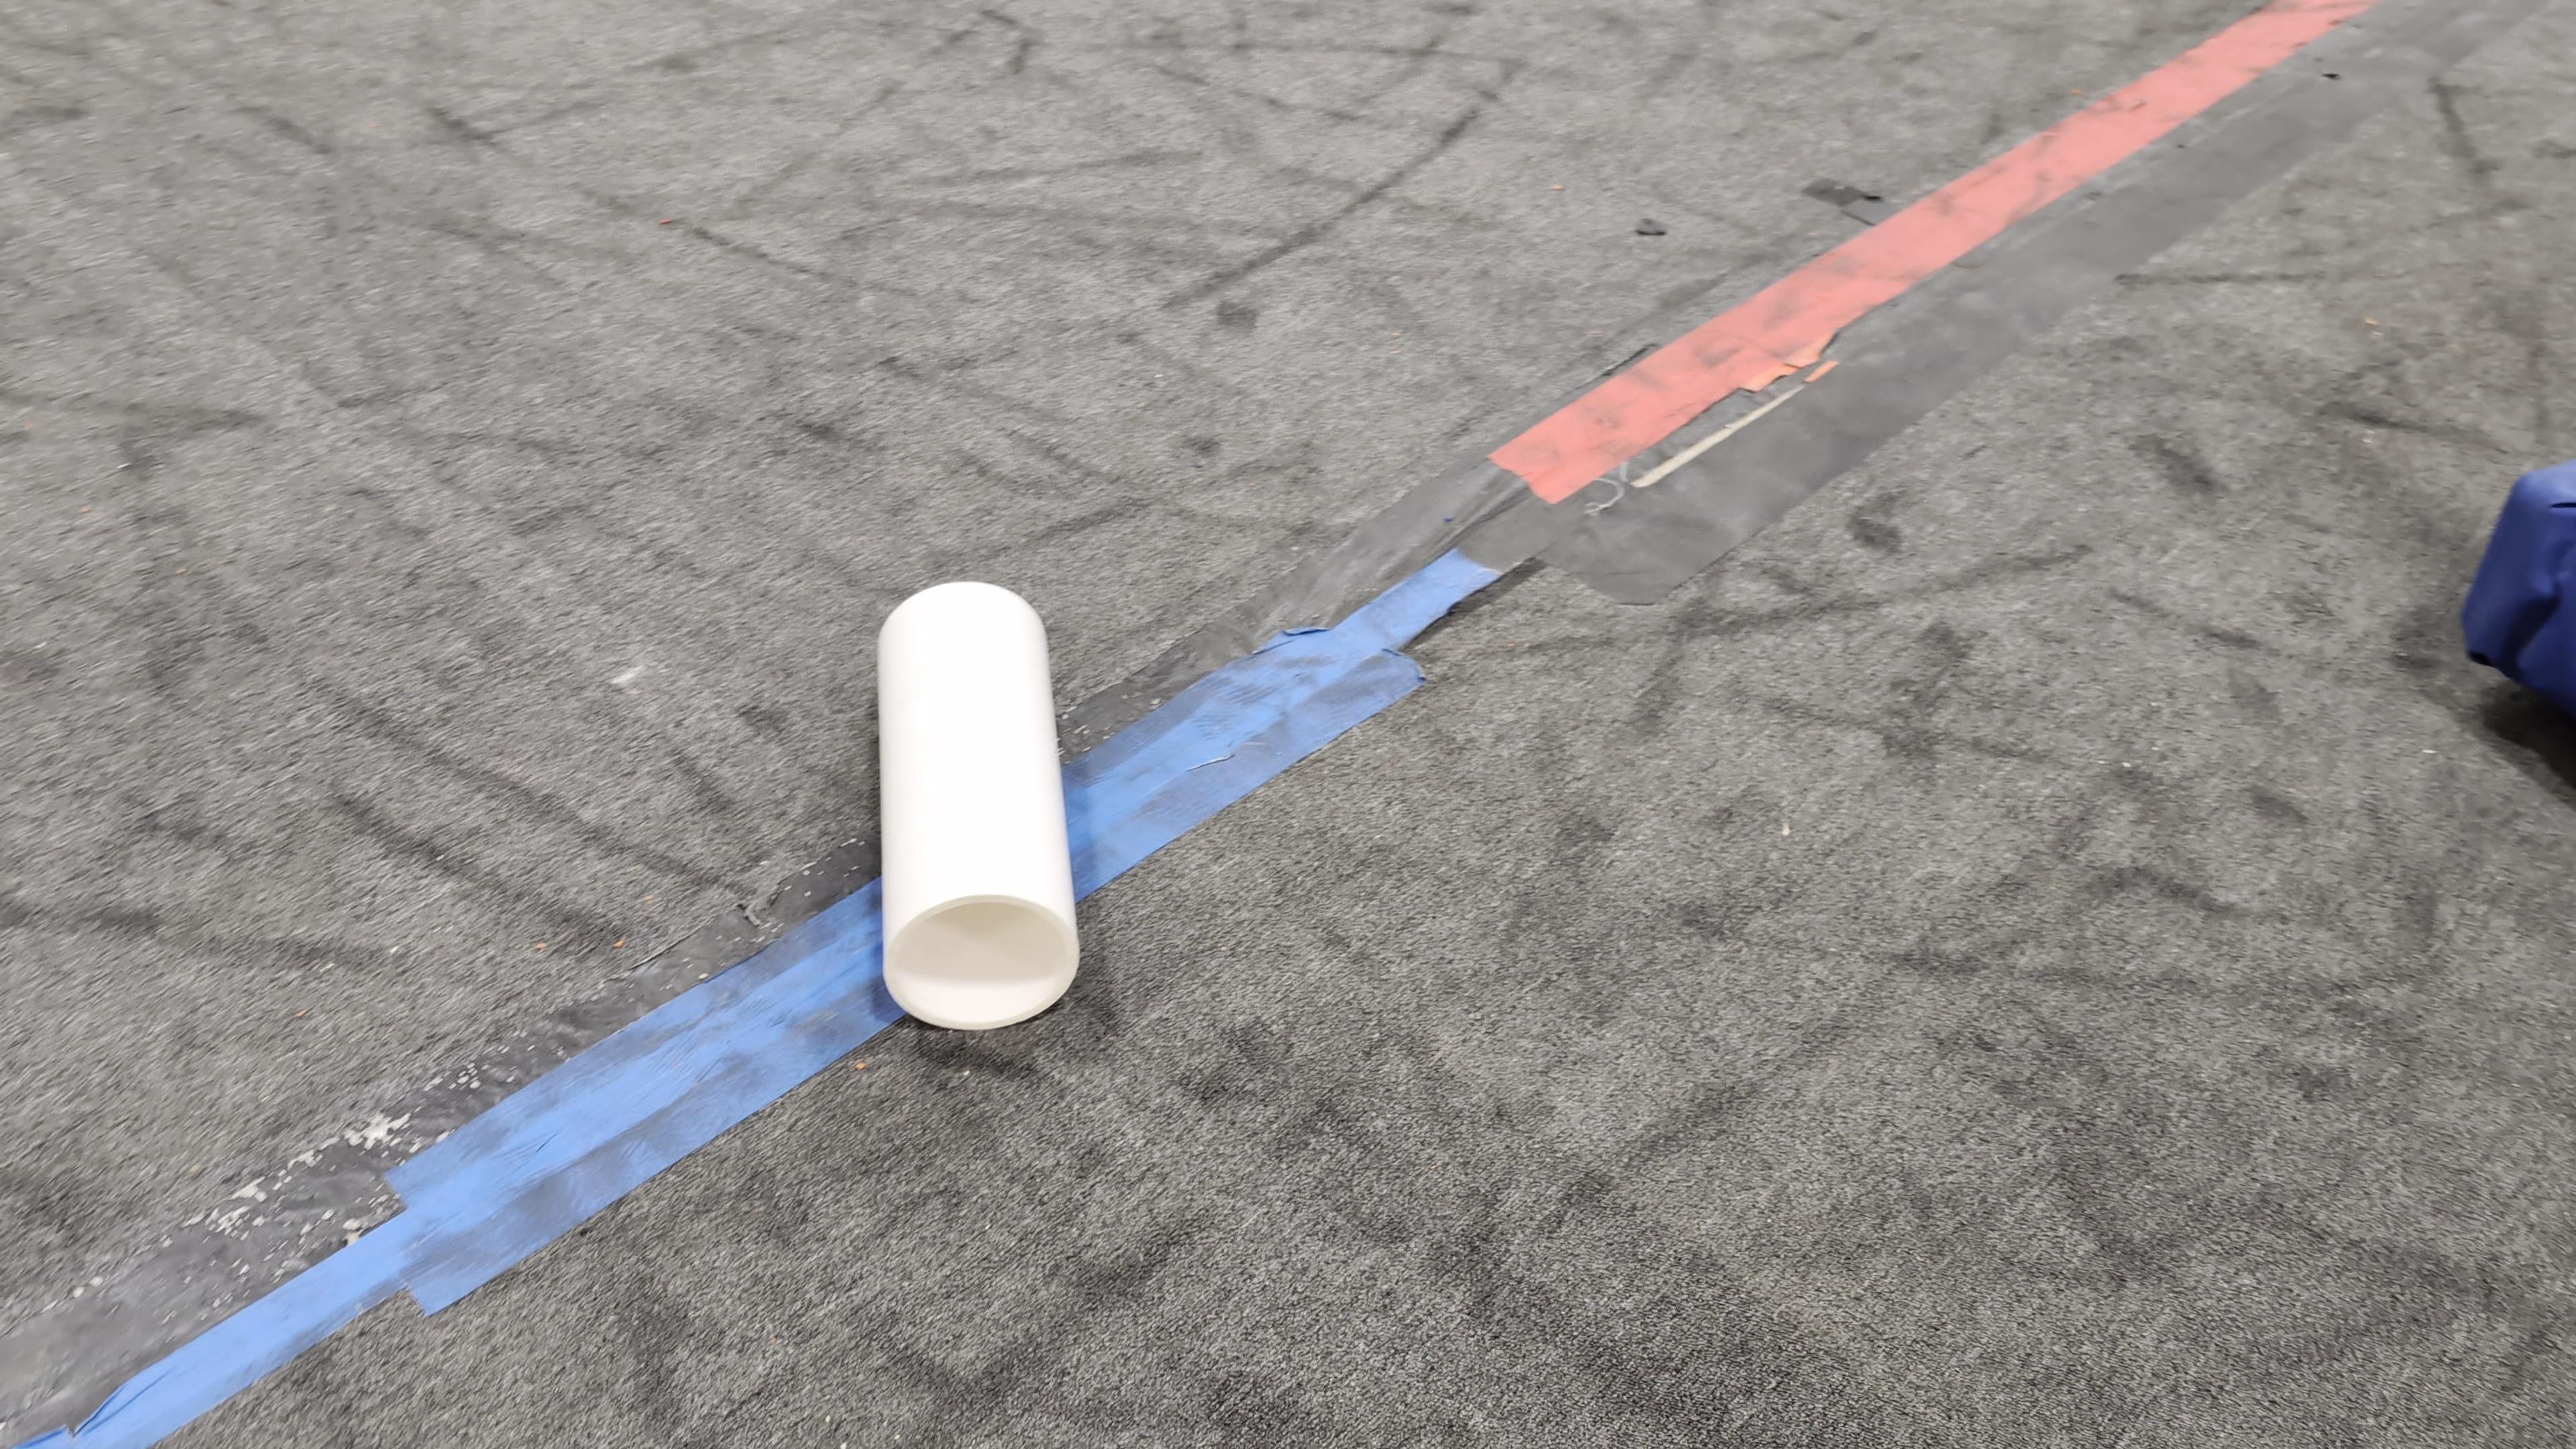coral: (878, 582, 1077, 1030)
